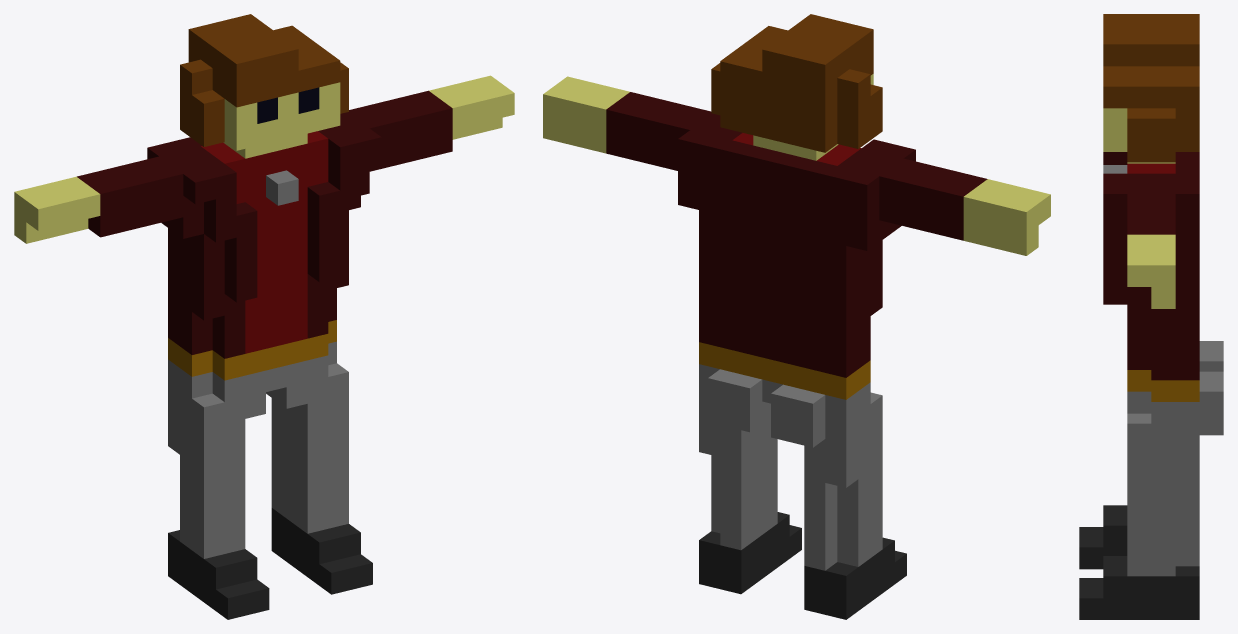
The model's file is DresdanThick.fbx.
3 renders of one model, left to right at view 1: azimuth 30°, elevation 25°; view 2: azimuth 150°, elevation 25°; view 3: azimuth 270°, elevation 25°, orthographic.
Parts seen in each view (by area): view 1: DresdenThicker:Mesh; view 2: DresdenThicker:Mesh; view 3: DresdenThicker:Mesh.
Boxes of the visible parts, left/top/right/bottom form: DresdenThicker:Mesh: left=14, top=14, right=514, bottom=619; DresdenThicker:Mesh: left=543, top=14, right=1050, bottom=619; DresdenThicker:Mesh: left=1079, top=14, right=1223, bottom=619.
Size of the model in its own units: 2.3 by 2.5 by 0.6.
Materials: 1 (1 with a texture image).
